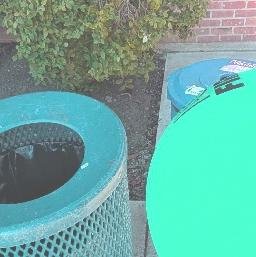algae: (145, 61, 256, 257)
